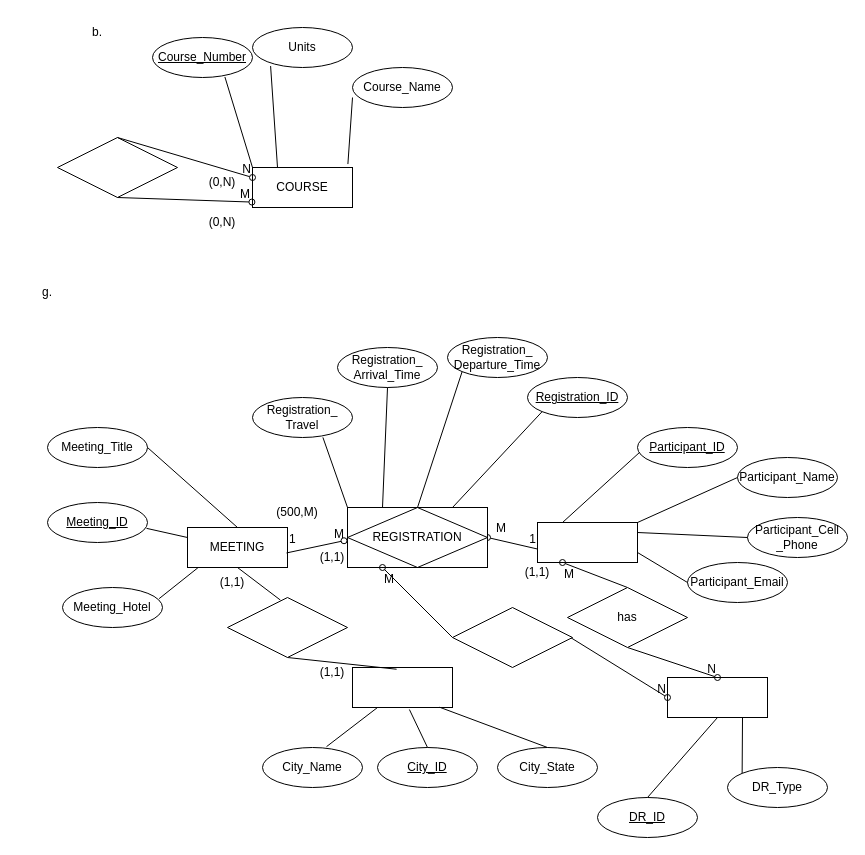
Image size: 865x855. Some labels were removed from this diagram. Here are the shapes that lost their labels. From the top down, the centre of each, then its label:
At pixel 117 167: "Is Prerequisite".
At pixel 587 542: "PARTICIPANT".
At pixel 287 627: "takes place".
At pixel 512 637: "includes".
At pixel 402 687: "CITY".
At pixel 717 697: "DIETARY RESTRICTION".
